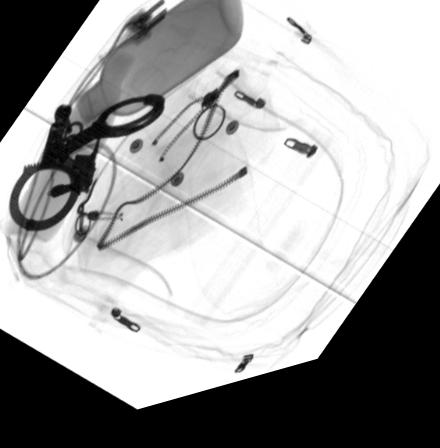Gun: (47, 125, 106, 203)
HandCuffs: (6, 102, 165, 235)
